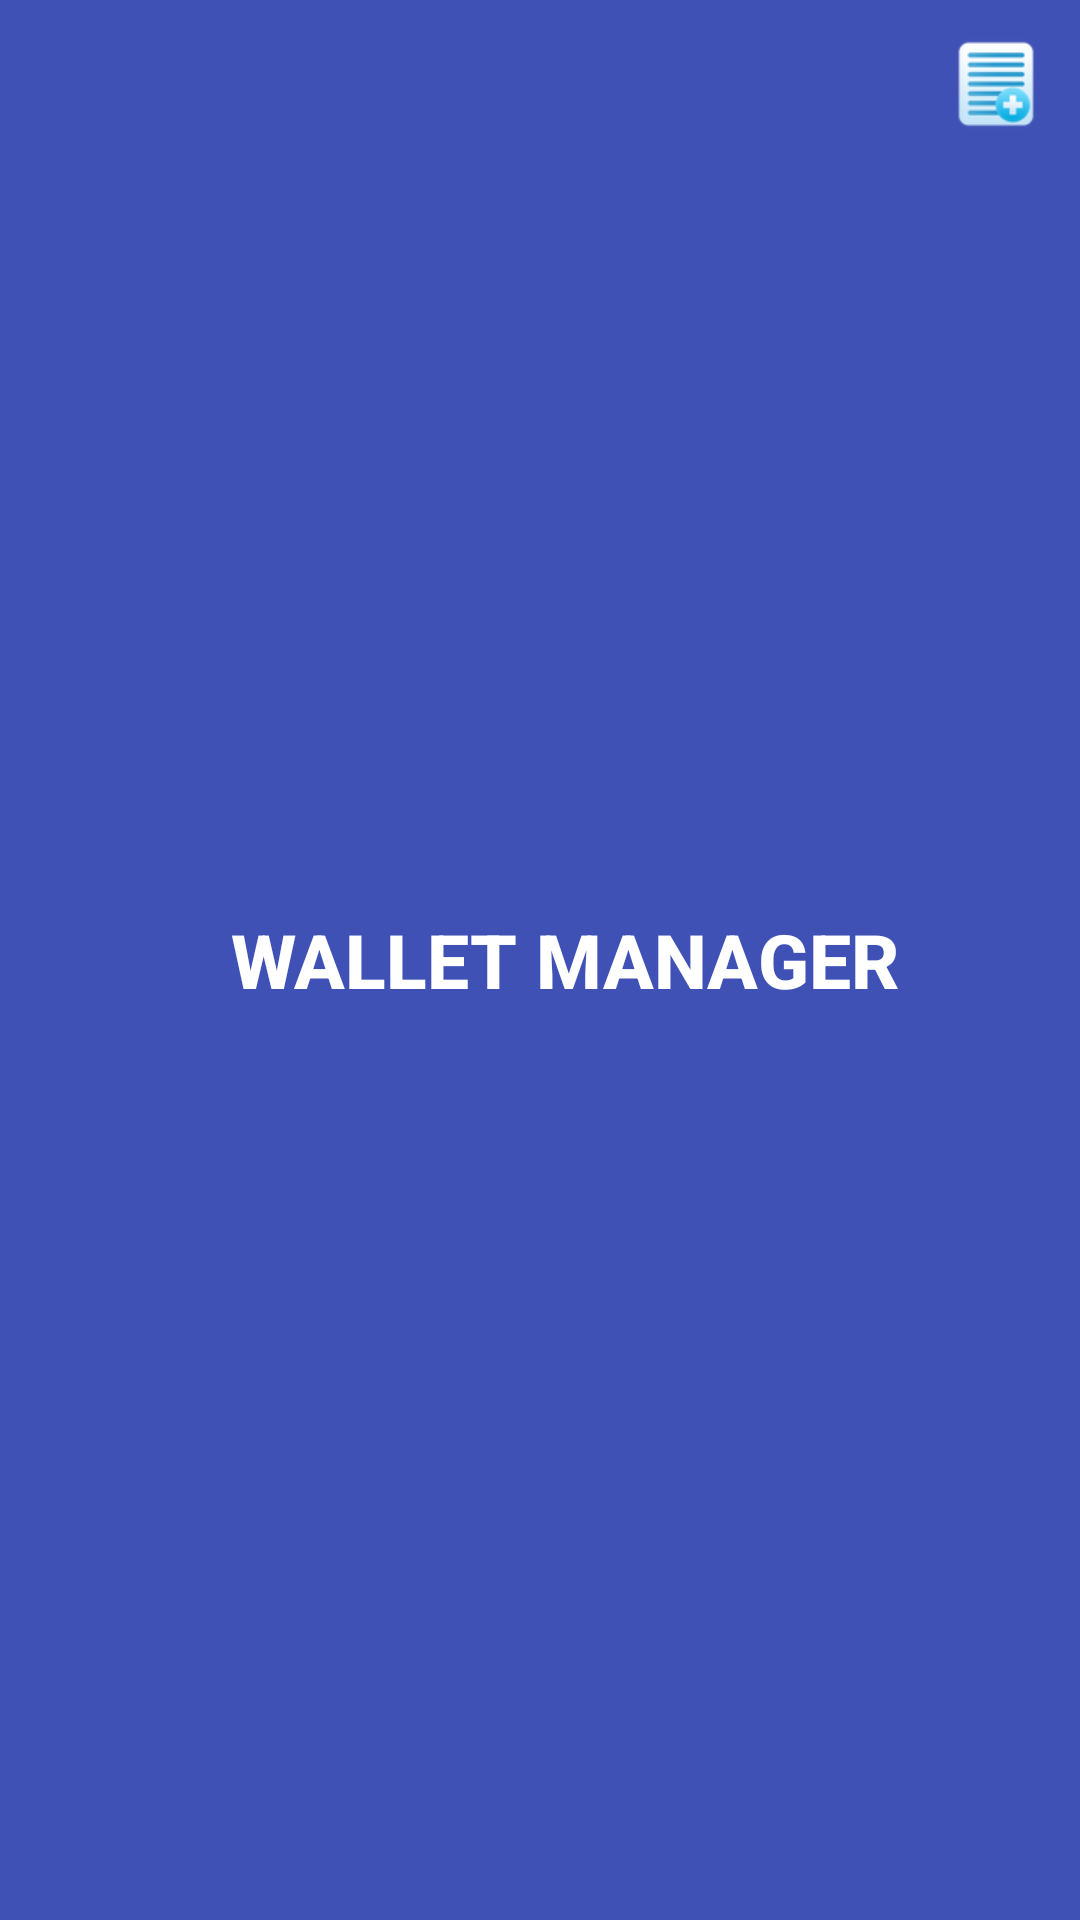

Named icons in this screenshot (1080px x 1920px) and their bounding boxes, (x1,y1,x2,y2):
add: (958,42,1034,126)
